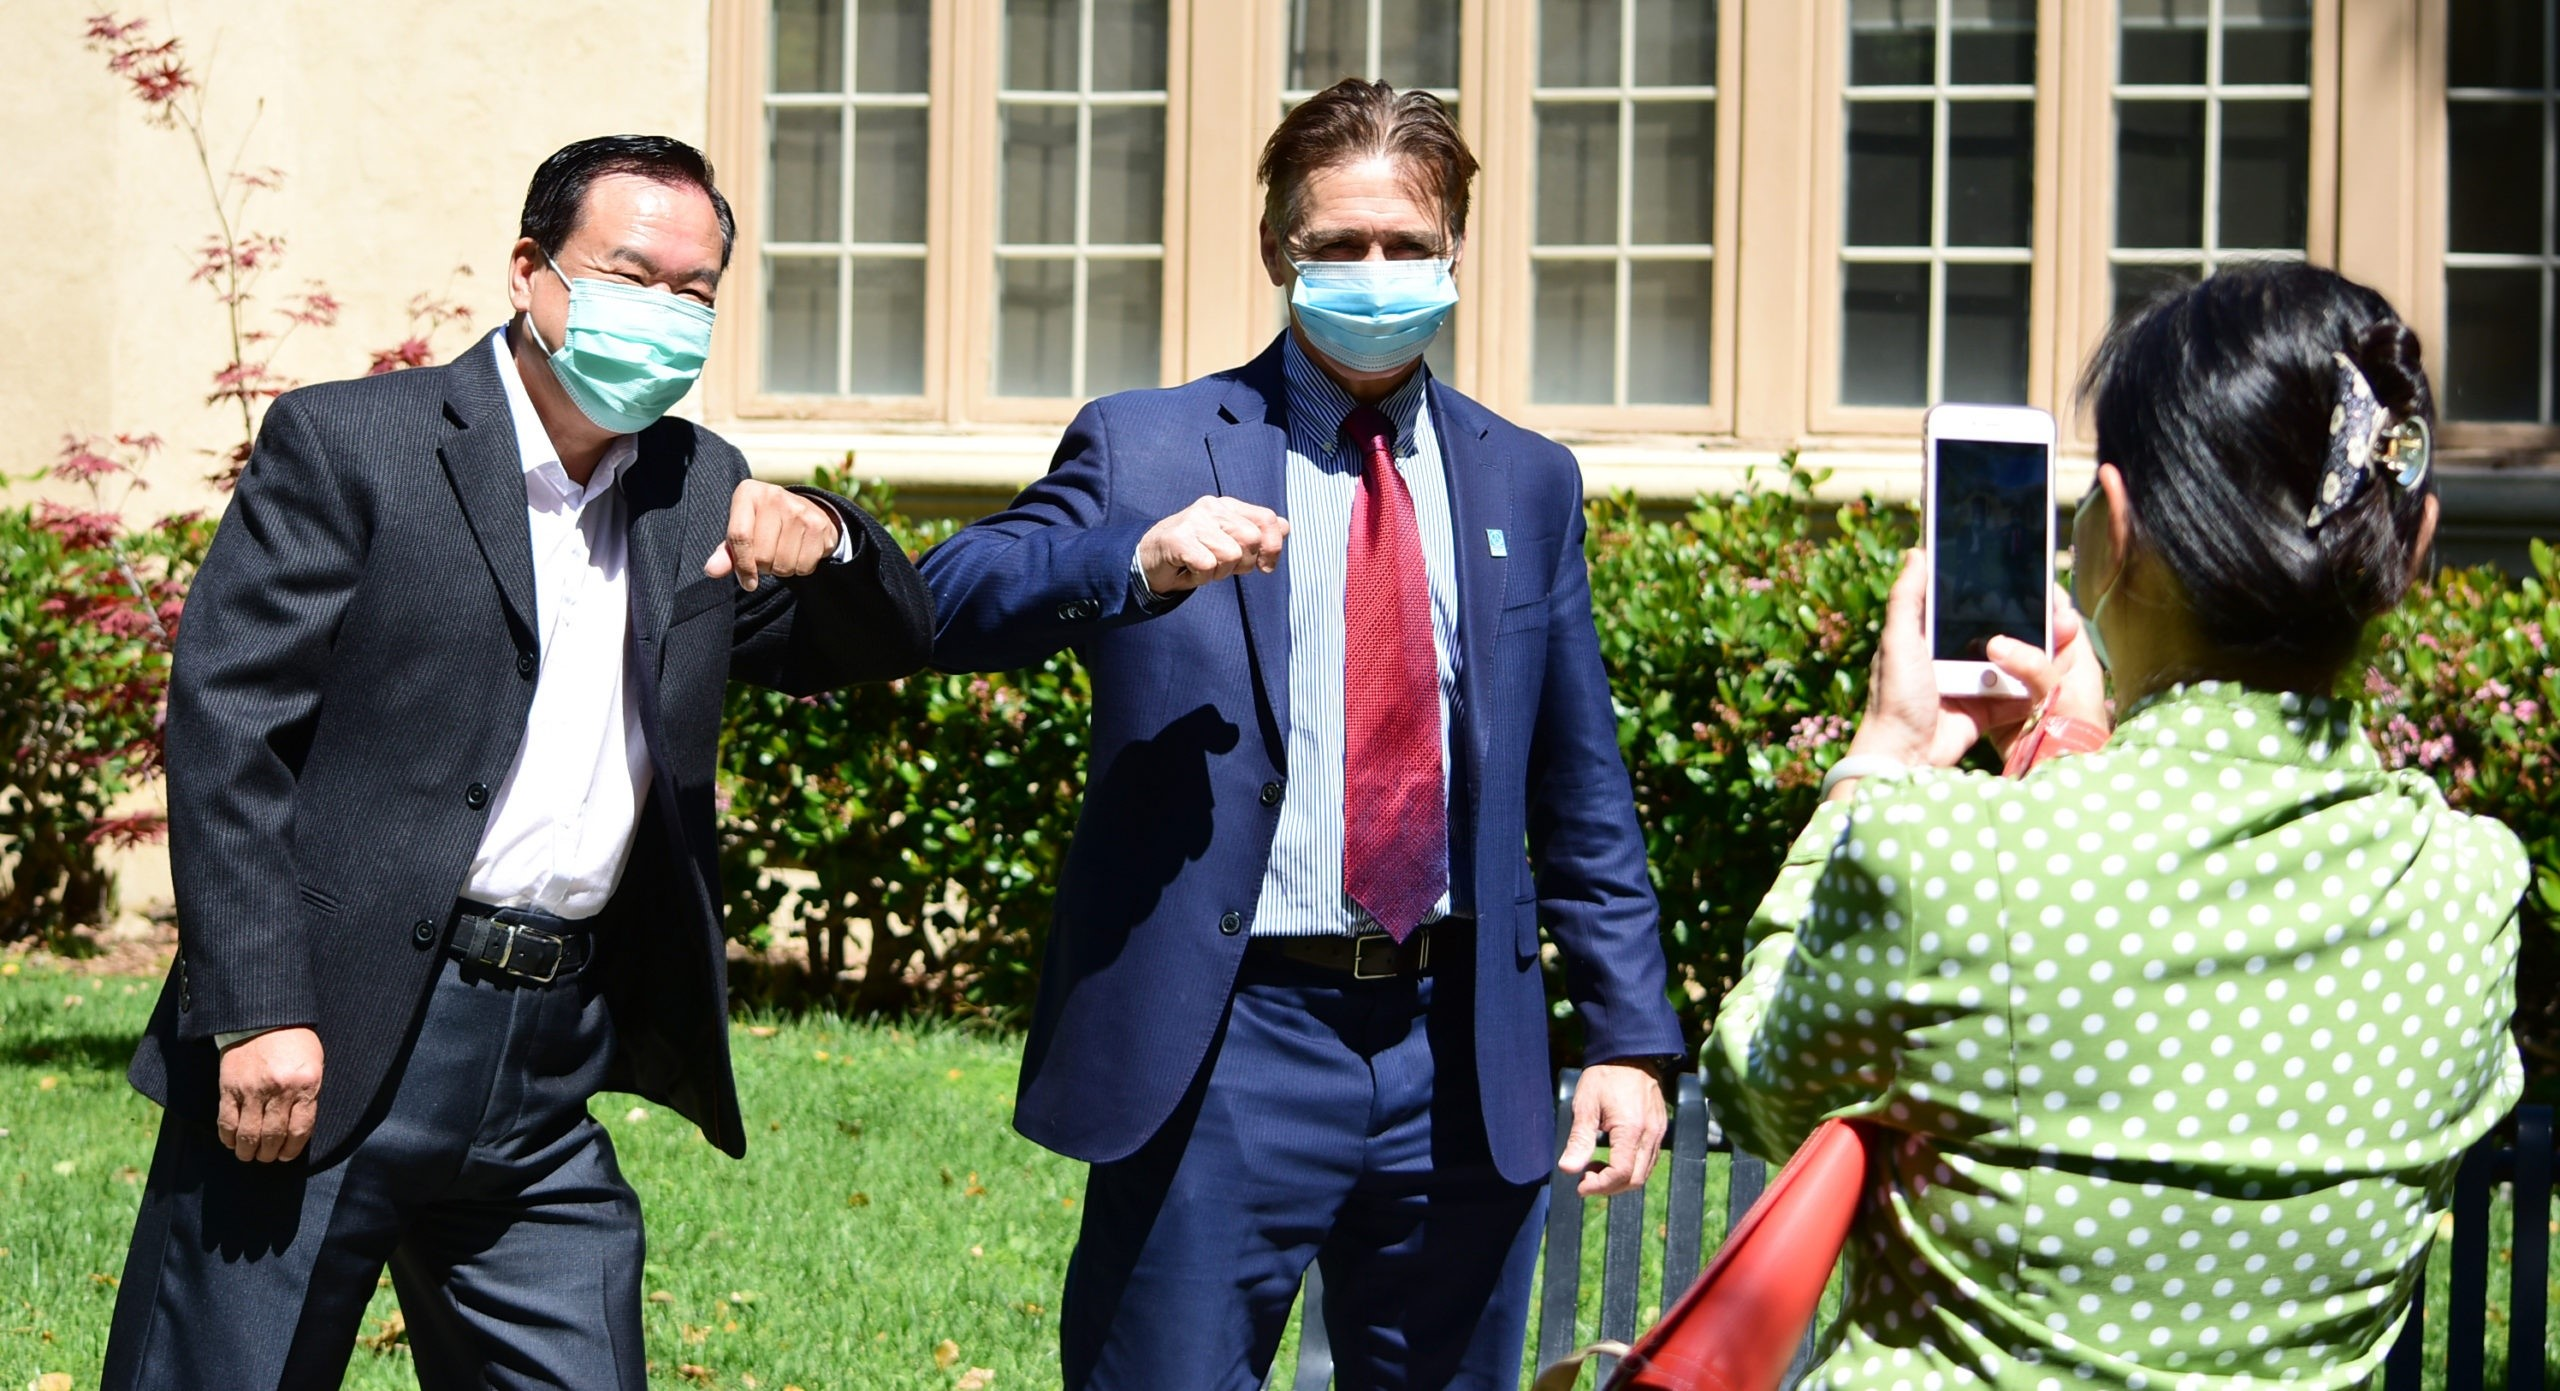face_with_mask: (498, 120, 741, 442), (1274, 76, 1485, 369)
